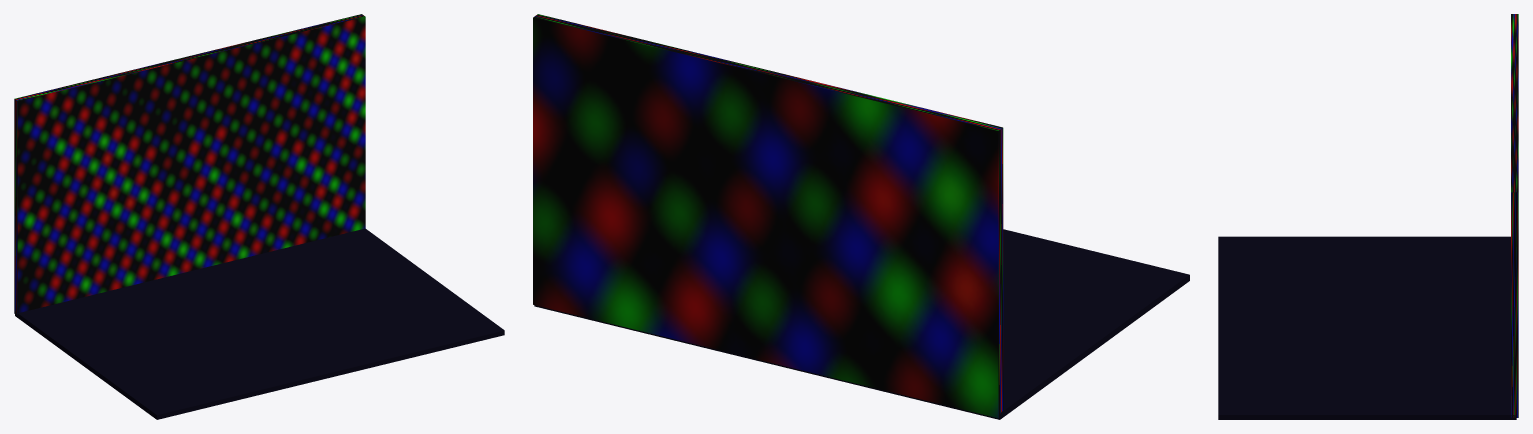
File: stage.fbx
The picture shows the model from 3 angles, left to right: view 1: azimuth 30°, elevation 25°; view 2: azimuth 150°, elevation 25°; view 3: azimuth 270°, elevation 25°; orthographic projection. The views are drawn at different scales.
Parts seen in each view (by area): view 1: Cube.002, Cube; view 2: Cube.002, Cube; view 3: Cube, Cube.002.
Part boxes in pixels (x1,y1,x2,y2): Cube.002: (14,14,365,314); Cube: (15,228,504,419); Cube.002: (533,14,1003,418); Cube: (534,229,1189,419); Cube: (1218,236,1516,419); Cube.002: (1511,14,1518,417).
Size of the model in its own units: 410 by 244 by 292.
